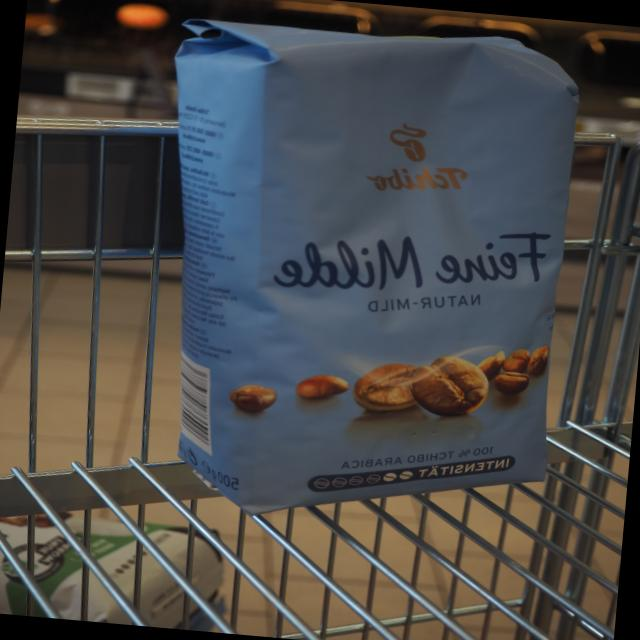FM Bohne: (127, 0, 588, 545)
